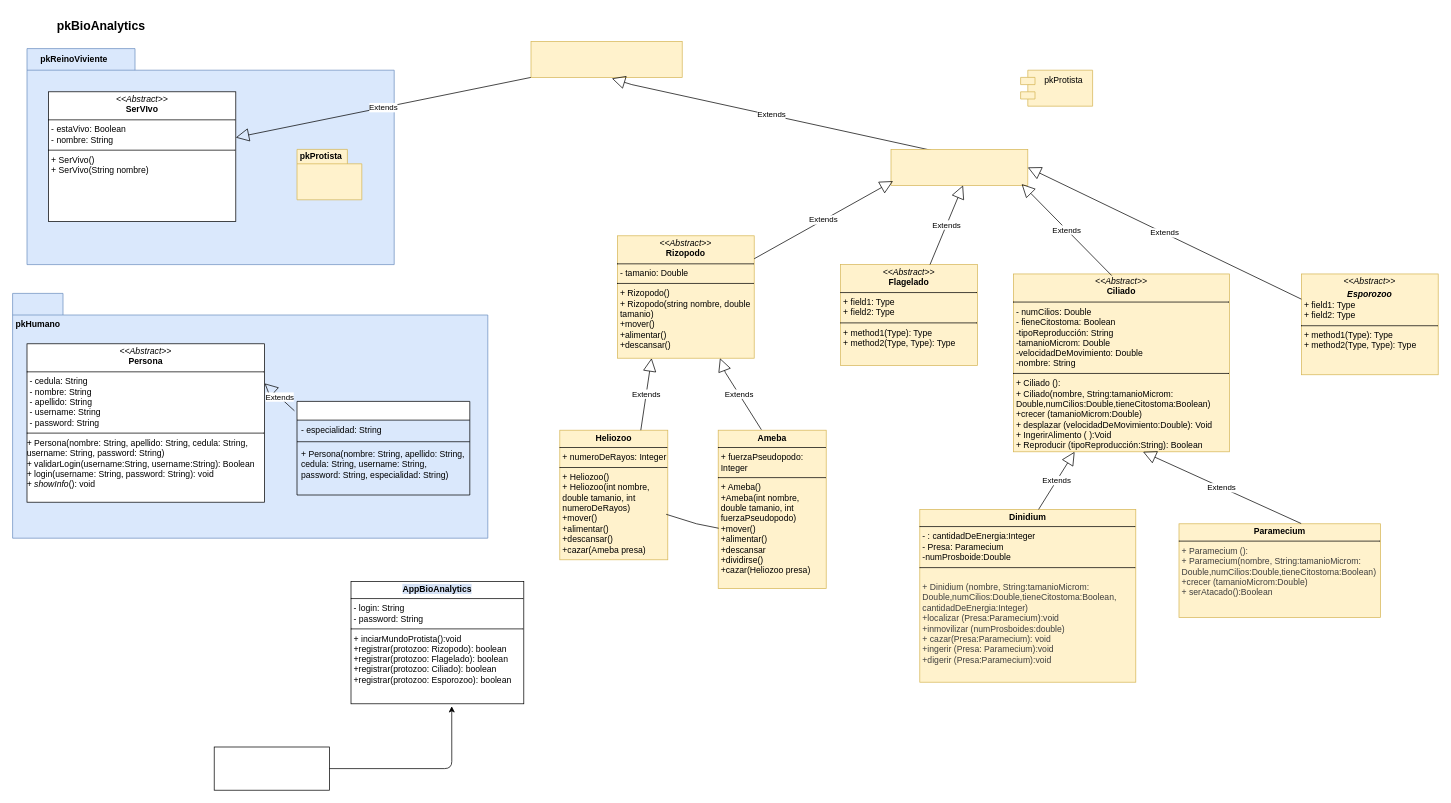
This 1451x803 diagram has some shape labels left out. Here are the shapes that lost their labels. From the top down, the box of each, then its label:
(530, 41, 682, 77): <<Abstract>> ReinoProtista
(890, 149, 1028, 185): <<Abstract>> Protozoo
(296, 401, 470, 495): Microbiologo
(213, 746, 329, 790): App + main(String[]):void
